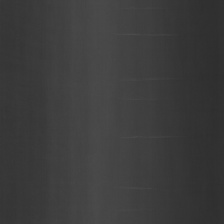waist_folding: (122, 10, 190, 213)
